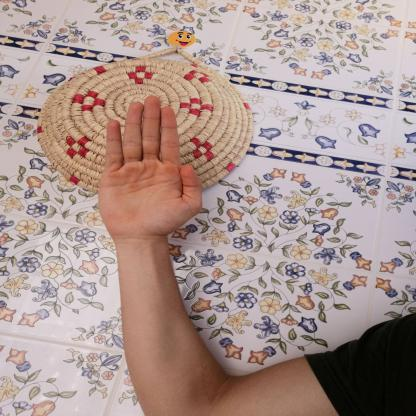SEEN: (90, 86, 210, 244)
